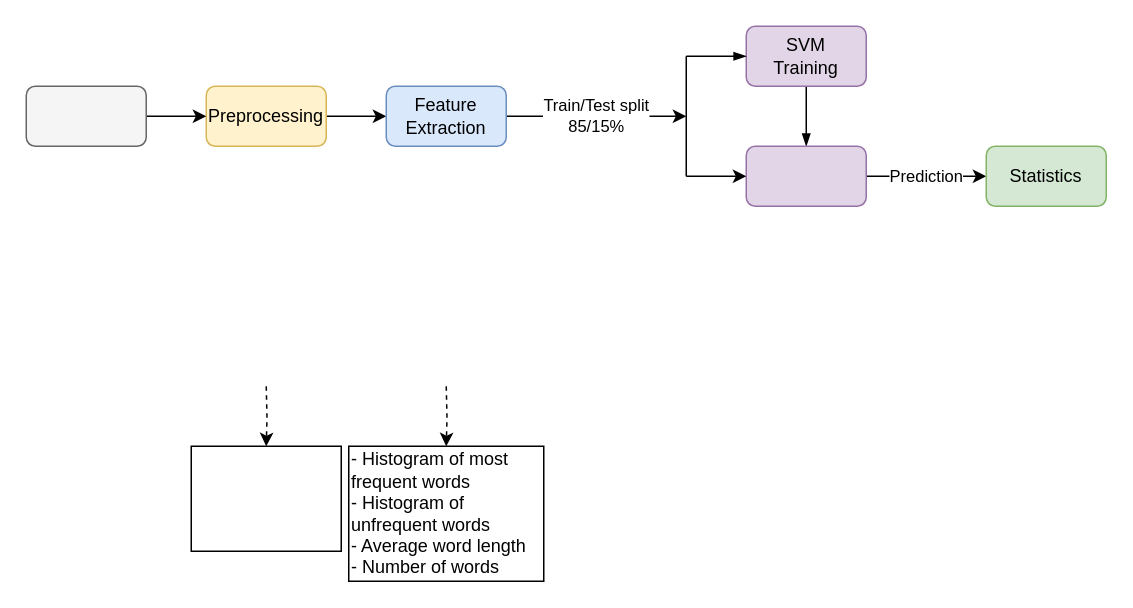
This 1133x608 diagram has some shape labels left out. Here are the shapes that lost their labels. From the top down, the centre of each, then its label:
the point at 85,115: Dataset
the point at 805,175: SVM Classifier
the point at 265,498: - "Cleaning the texts" - Tokenizing - Ignoring punctuation
